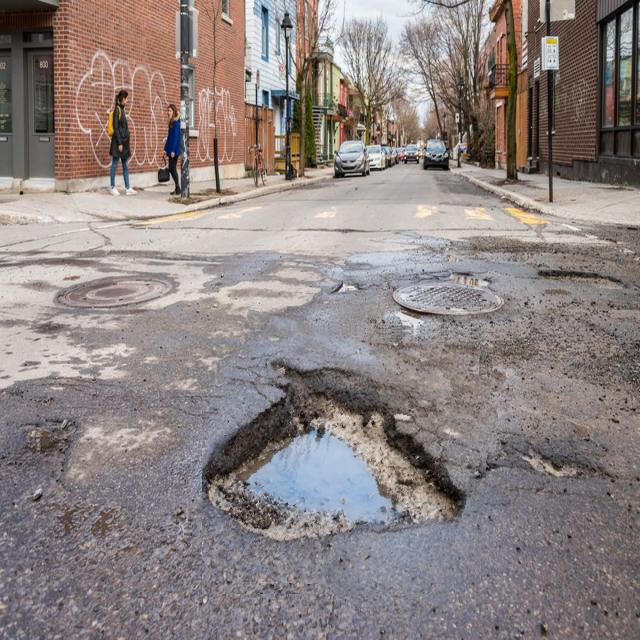Pothole: (202, 324, 494, 594)
